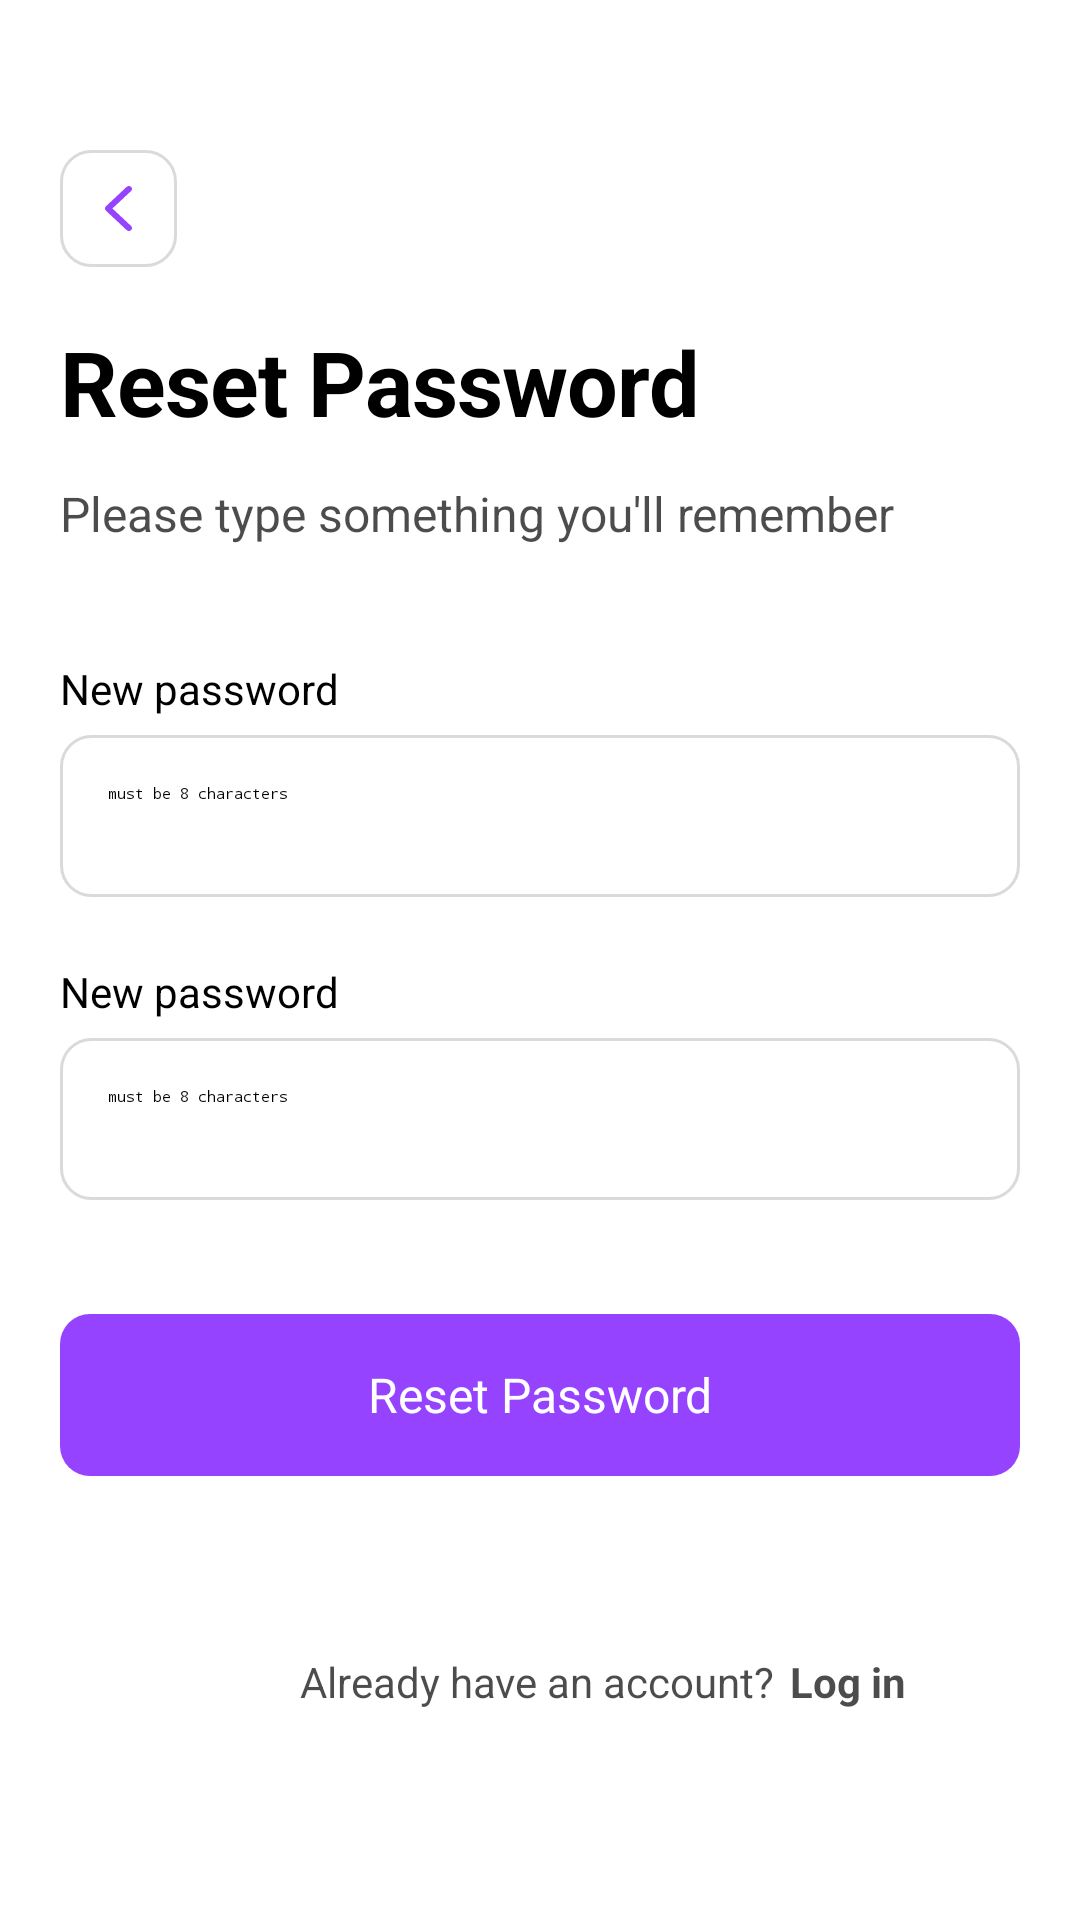

Screen size 1080px×1920px. Icon name, then its box in pixels as (x1, y1, x2, y2):
back: (60, 150, 177, 267)
